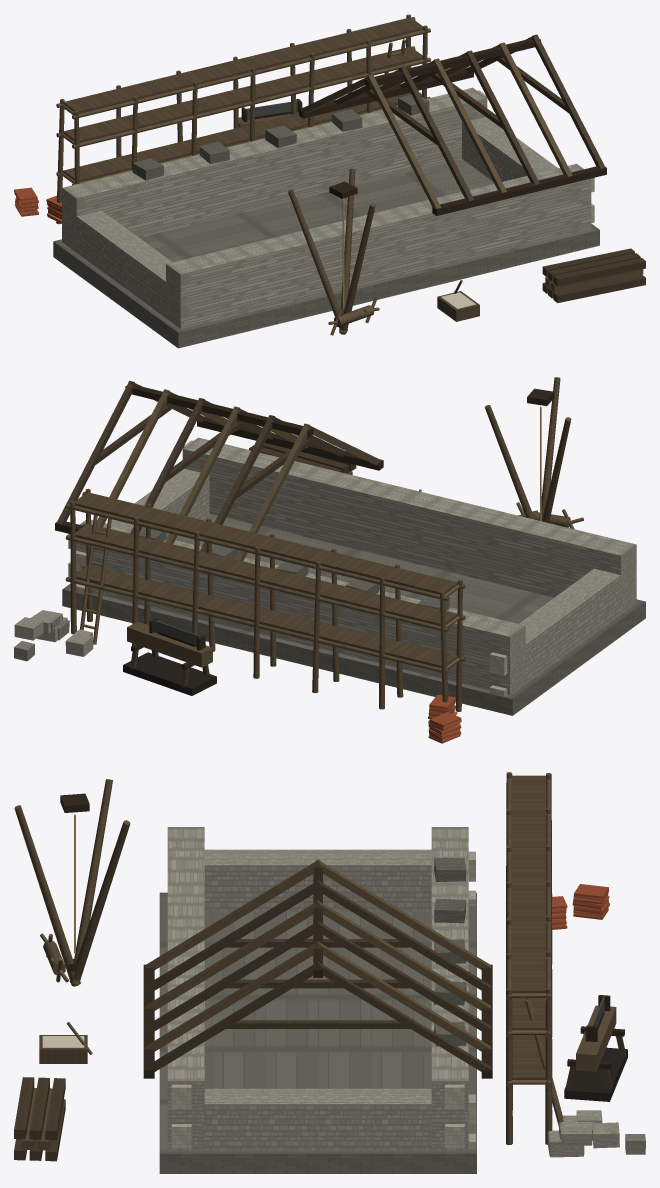
Rendered from rat-2-construction.glb.
The picture shows the model from 3 angles, top to bottom: view 1: azimuth 30°, elevation 25°; view 2: azimuth 150°, elevation 25°; view 3: azimuth 270°, elevation 25°; orthographic projection. The views are drawn at different scales.
Bounding box in the file's own units: 26.8 × 10 × 27.29.
26 materials, 19 textured.
